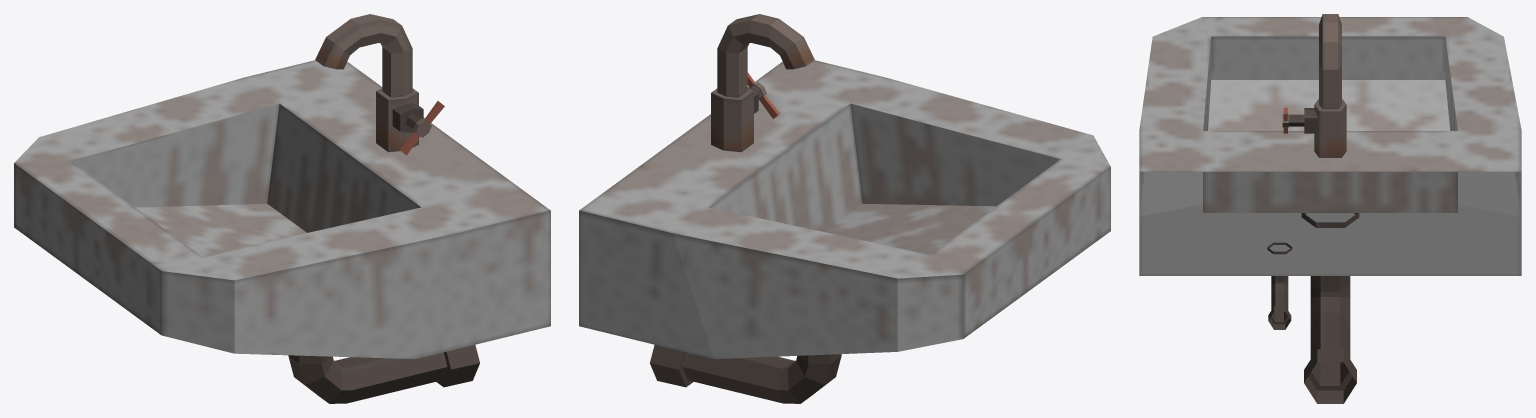
The model's file is obj_washbasin_clean.fbx.
The picture shows the model from 3 angles, left to right: view 1: azimuth 30°, elevation 25°; view 2: azimuth 150°, elevation 25°; view 3: azimuth 270°, elevation 25°; orthographic projection. The views are drawn at different scales.
Parts seen in each view (by area): view 1: obj_washbasin_clean; view 2: obj_washbasin_clean; view 3: obj_washbasin_clean.
Part boxes in pixels (bbox=[...]): obj_washbasin_clean: bbox=[14, 14, 550, 403]; obj_washbasin_clean: bbox=[579, 14, 1110, 403]; obj_washbasin_clean: bbox=[1139, 14, 1521, 403].
Size of the model in its own units: 50.85 by 49.29 by 50.
